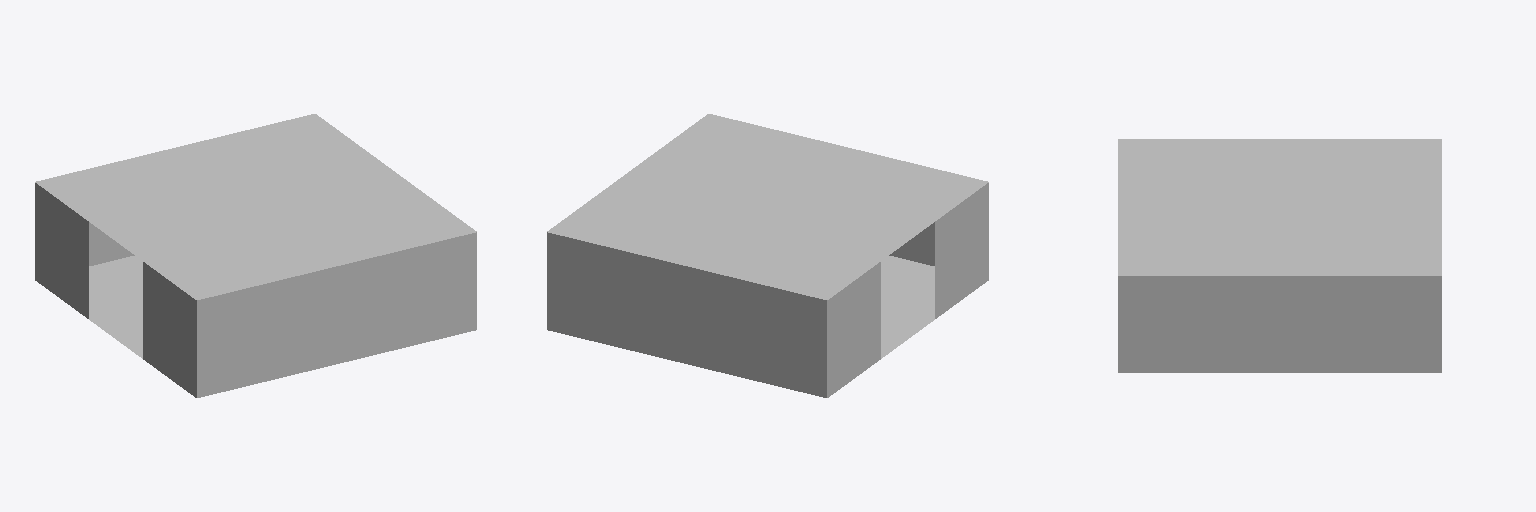
The model's file is room-o1.obj.
The picture shows the model from 3 angles: view 1: azimuth 30°, elevation 25°; view 2: azimuth 150°, elevation 25°; view 3: azimuth 270°, elevation 25°; orthographic projection.
Visible parts, largest first — view 1: Cube.003; view 2: Cube.003; view 3: Cube.003.
Boxes of the visible parts, x1,y1,x2,y2 form: Cube.003: [35, 114, 476, 397]; Cube.003: [547, 114, 988, 397]; Cube.003: [1118, 139, 1441, 372].
Bounding box in the file's own units: 384 × 128 × 384.